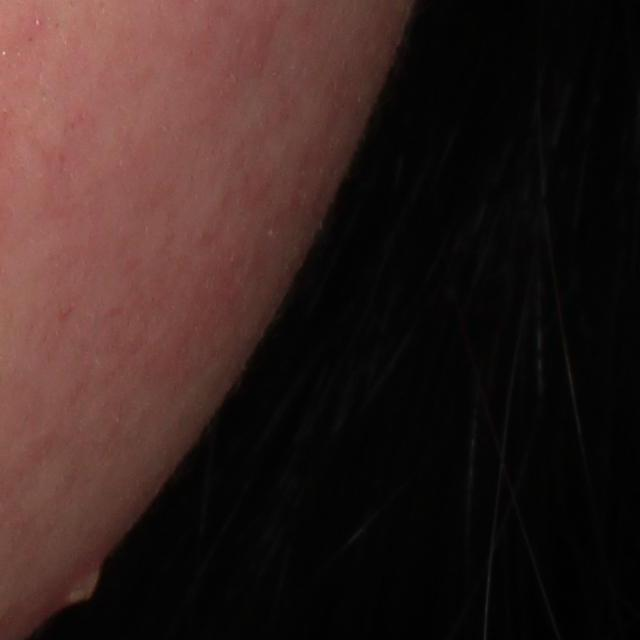pustule: (64, 560, 104, 609)
